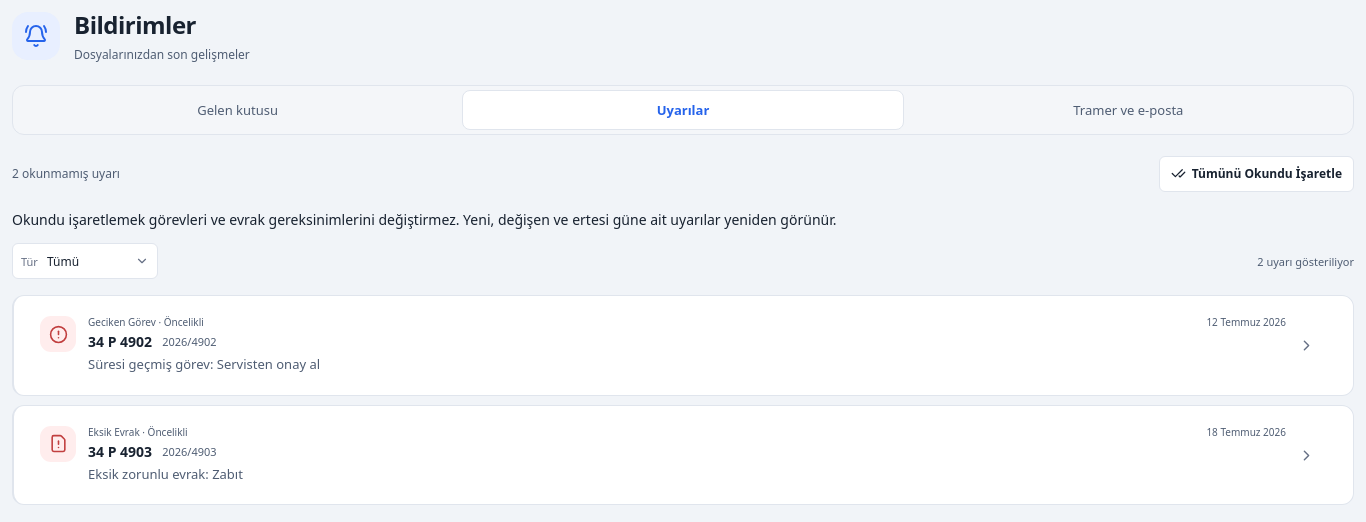
Test: NotificationsPage veri kaynağı ayrımı › acknowledges all warnings, refreshes the count and prevents double submission
Double-click the button "Tümünü Okundu İşaretle".
double_click(1256, 174)  # box [1159,156,1354,192]
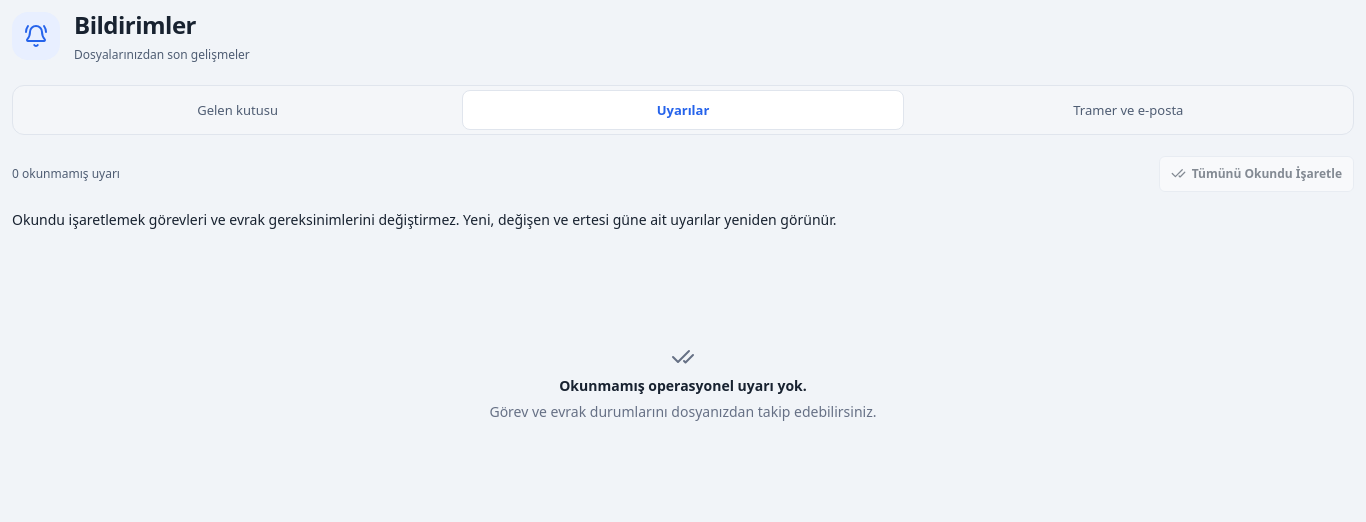
Check: the text "0 okunmamış uyarı" is shown, box [12,165,120,182]
Check: the button "Süresi geçmiş görev: Servisten onay al" is gone
Check: the button "Tümünü Okundu İşaretle" is disabled, box [1159,156,1354,192]
